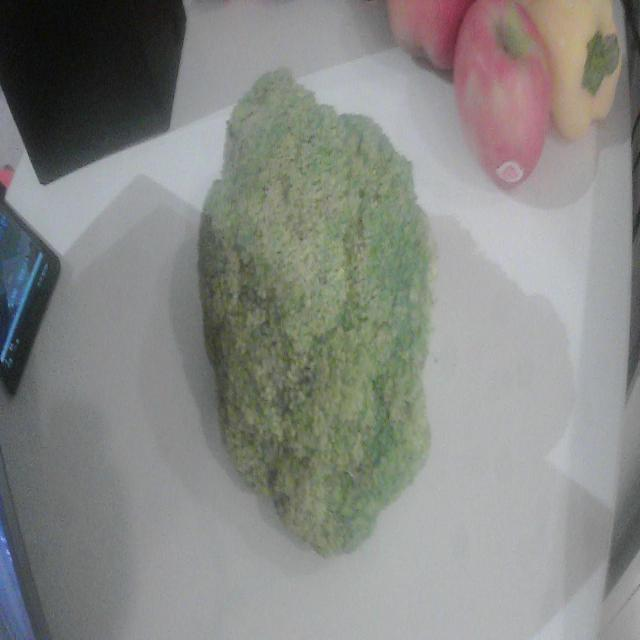Apple: (453, 0, 552, 188)
Bell Pepper: (518, 0, 622, 140)
Broccoli: (198, 70, 434, 555)
